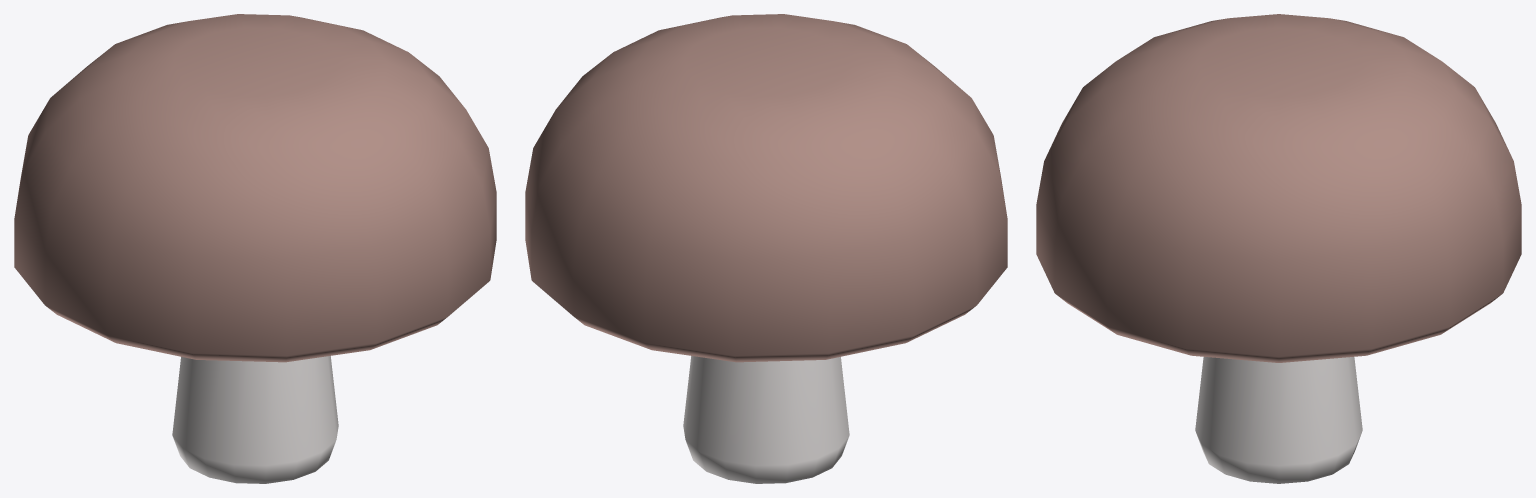
File: mushroom.glb
3 views of the same model, side by side, from view 1: azimuth 30°, elevation 25°; view 2: azimuth 150°, elevation 25°; view 3: azimuth 270°, elevation 25° (orthographic).
Visible parts, largest first — view 1: Champignon_Mushroom; view 2: Champignon_Mushroom; view 3: Champignon_Mushroom.
Part boxes in pixels (box(x1,y1,x2,y2)): Champignon_Mushroom: box(14, 14, 496, 483); Champignon_Mushroom: box(525, 14, 1007, 483); Champignon_Mushroom: box(1036, 14, 1521, 483).
Bounding box in the file's own units: 0.1159 × 0.105 × 0.1159.
1 material, 1 textured.
